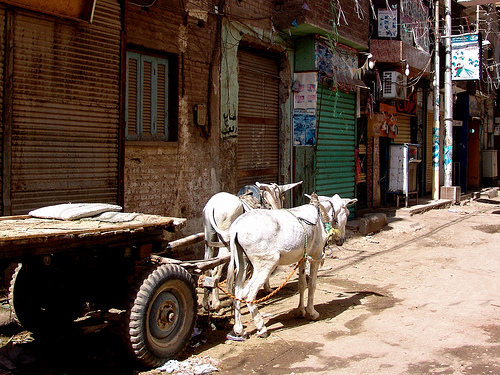horse: (224, 192, 358, 344), (199, 178, 304, 313)
